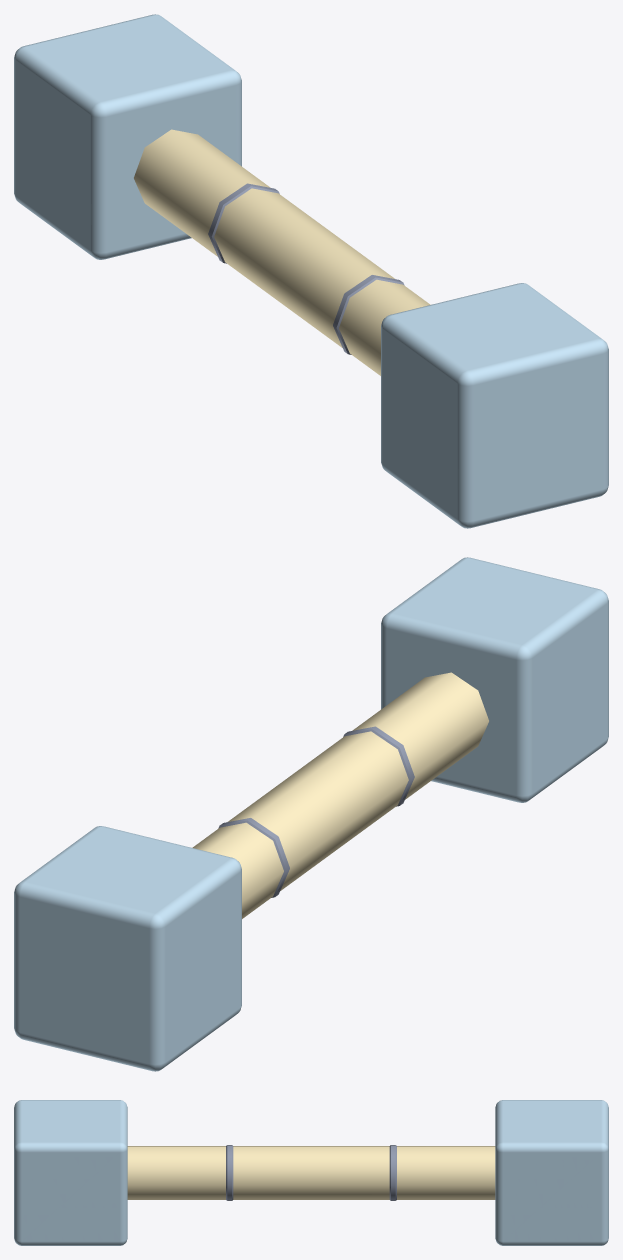
Rendered from R4C_STRUT_LONG.glb.
3 views of the same model, one above another, from view 1: azimuth 30°, elevation 25°; view 2: azimuth 150°, elevation 25°; view 3: azimuth 270°, elevation 25° (orthographic). The views are drawn at different scales.
Visible parts, largest first — view 1: R4C_STRUT_LONG; view 2: R4C_STRUT_LONG; view 3: R4C_STRUT_LONG.
Boxes of the visible parts, x1,y1,x2,y2 form: R4C_STRUT_LONG: [14, 14, 608, 528]; R4C_STRUT_LONG: [14, 557, 608, 1071]; R4C_STRUT_LONG: [14, 1100, 608, 1245].
Size of the model in its own units: 0.52 by 0.52 by 2.72.
